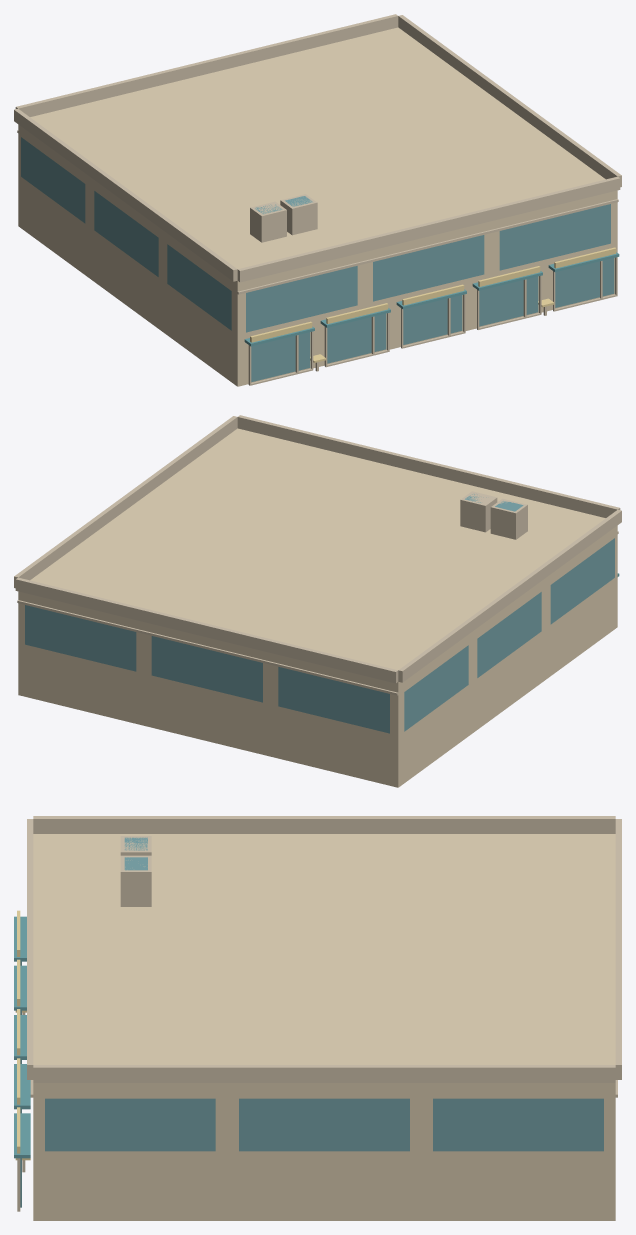
File: commercial_3x3_a.glb
3 renders of one model, top to bottom at view 1: azimuth 30°, elevation 25°; view 2: azimuth 150°, elevation 25°; view 3: azimuth 270°, elevation 25°, orthographic. The views are drawn at different scales.
Visible parts, largest first — view 1: commercial_3x3_a_0; view 2: commercial_3x3_a_0; view 3: commercial_3x3_a_0.
Boxes of the visible parts, <box> form: commercial_3x3_a_0: <box>14,14,621,386</box>; commercial_3x3_a_0: <box>14,415,621,787</box>; commercial_3x3_a_0: <box>14,816,621,1220</box>.
Bounding box in the file's own units: 23 × 7.5 × 23.5.
